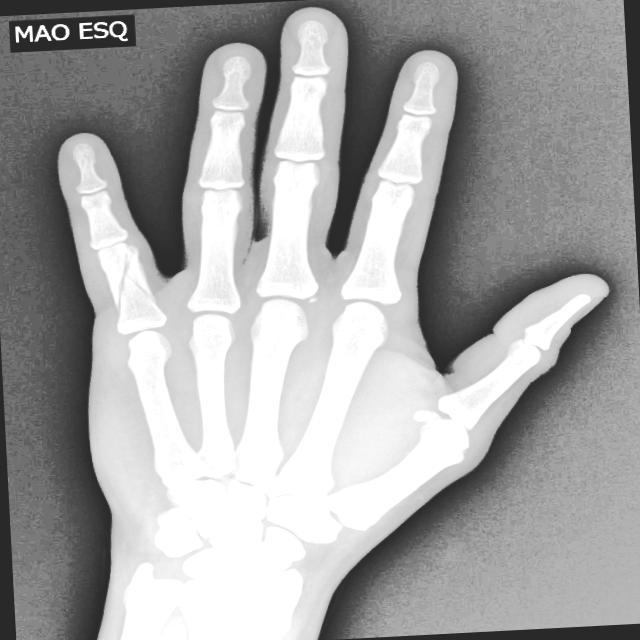Comminuted Fracture: (106, 252, 144, 317)
